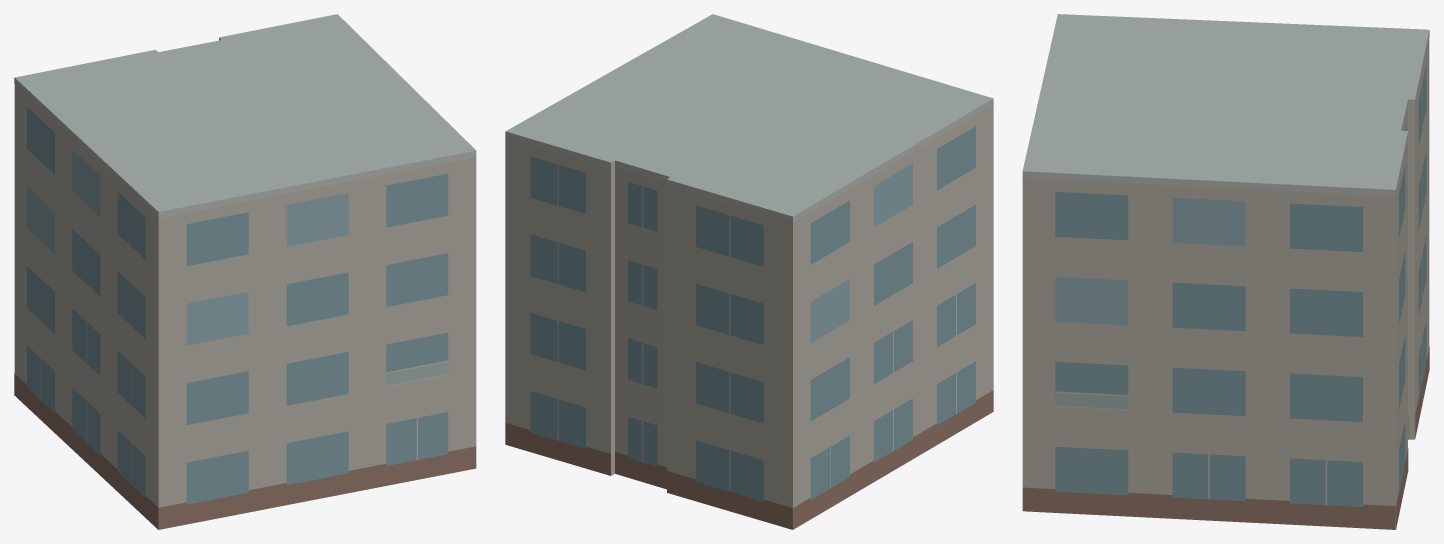
File: survey-upis-32681514.glb
3 views of the same model, side by side, from view 1: azimuth 30°, elevation 25°; view 2: azimuth 150°, elevation 25°; view 3: azimuth 270°, elevation 25° (orthographic). The views are drawn at different scales.
Parts seen in each view (by area): view 1: survey-upis-32681514.tmp; view 2: survey-upis-32681514.tmp; view 3: survey-upis-32681514.tmp.
Boxes of the visible parts, x1,y1,x2,y2 form: survey-upis-32681514.tmp: (14,14,476,529); survey-upis-32681514.tmp: (505,14,993,529); survey-upis-32681514.tmp: (1022,14,1429,529).
Size of the model in its own units: 13.55 by 12.2 by 13.25.
